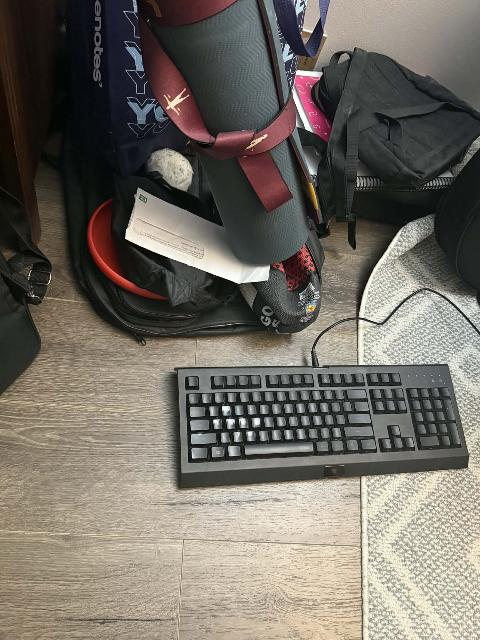ahkeyboard: (167, 358, 474, 490)
